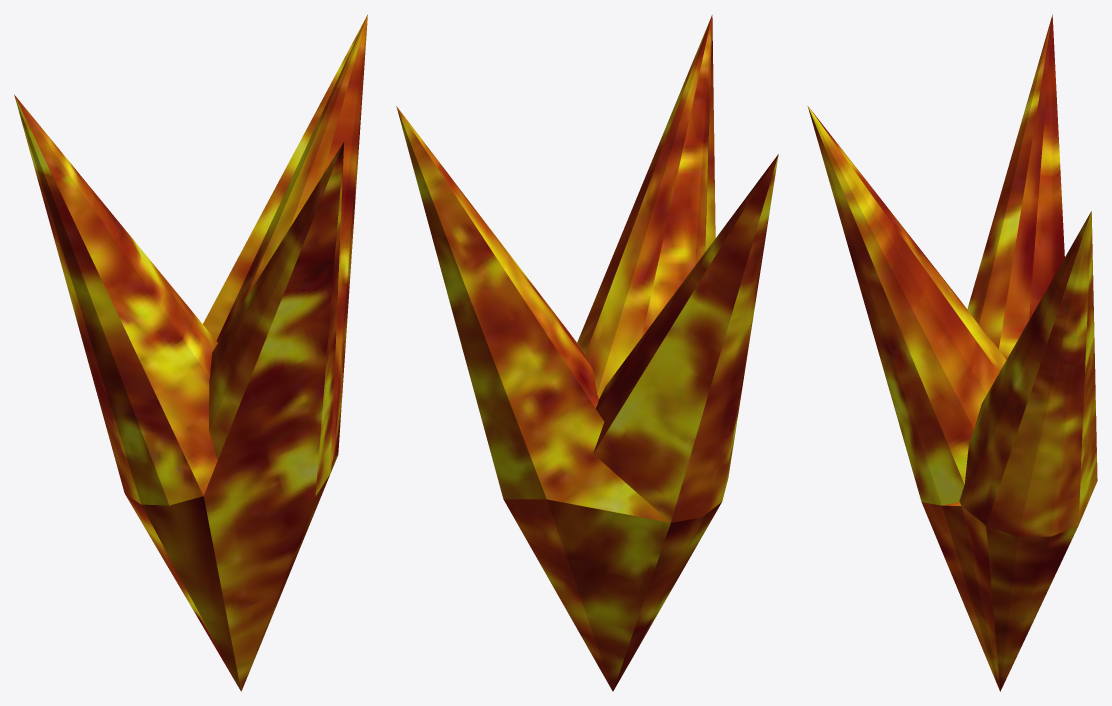
Rendered from Flash.glb.
The picture shows the model from 3 angles, left to right: view 1: azimuth 30°, elevation 25°; view 2: azimuth 150°, elevation 25°; view 3: azimuth 270°, elevation 25°; orthographic projection. The views are drawn at different scales.
Visible parts, largest first — view 1: MuzzleFlash; view 2: MuzzleFlash; view 3: MuzzleFlash.
Part boxes in pixels (box(x1,y1,x2,y2)): MuzzleFlash: box(14, 14, 367, 691); MuzzleFlash: box(396, 15, 778, 691); MuzzleFlash: box(807, 14, 1097, 691).
Size of the model in its own units: 0.8724 by 1.39 by 0.624.
1 material, 1 textured.
